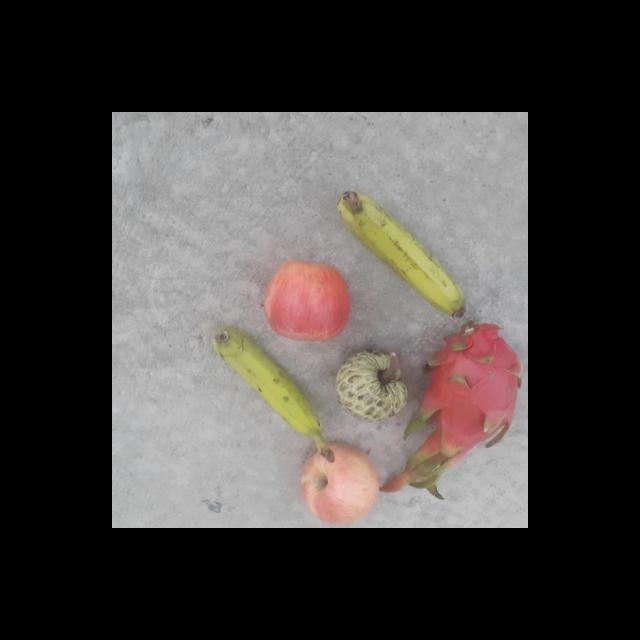Sakya fruit: (332, 347, 408, 422)
apple: (261, 258, 350, 344), (300, 440, 378, 528)
banana: (335, 187, 469, 320), (210, 328, 336, 462)
pitaya: (414, 320, 528, 458)
